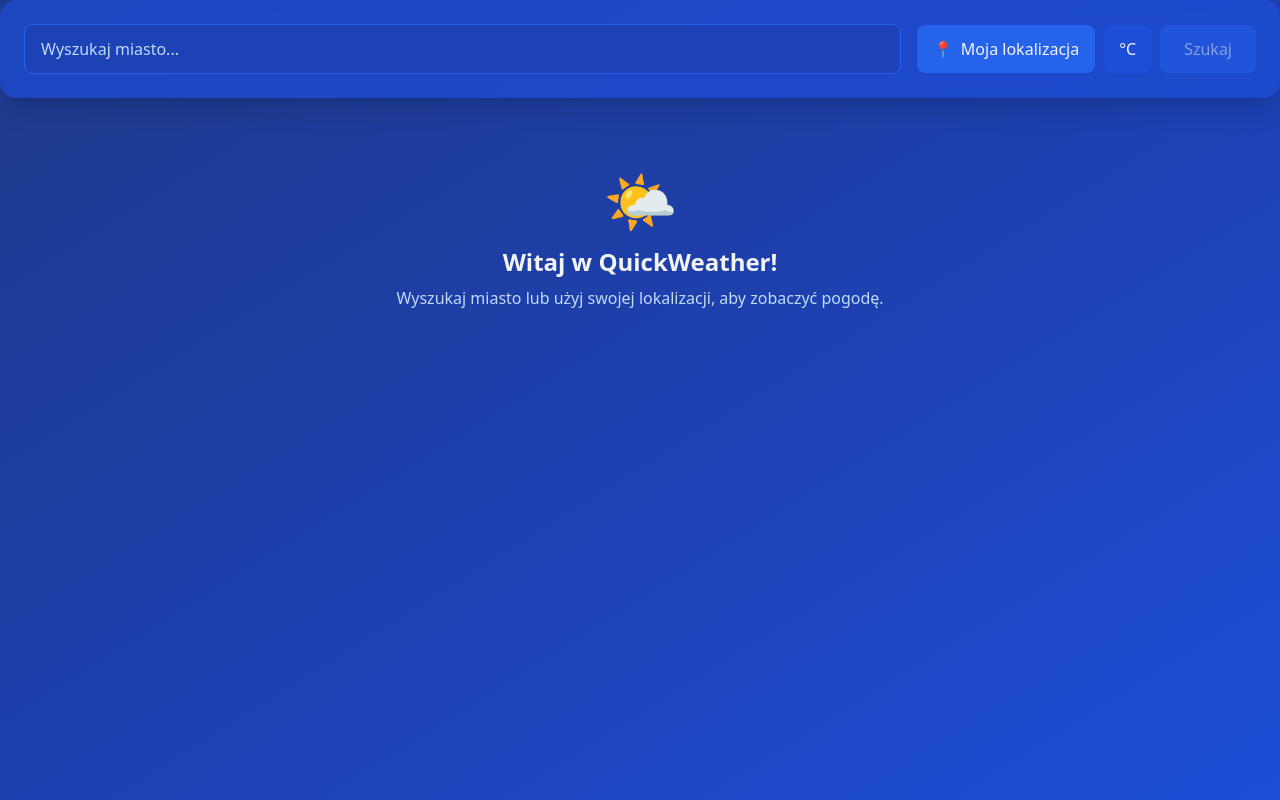
Home Integration Tests › searches for city weather
Type "Kraków" into the field with placeholder "Wyszukaj miasto..." at [462, 49], box [24, 24, 901, 74]
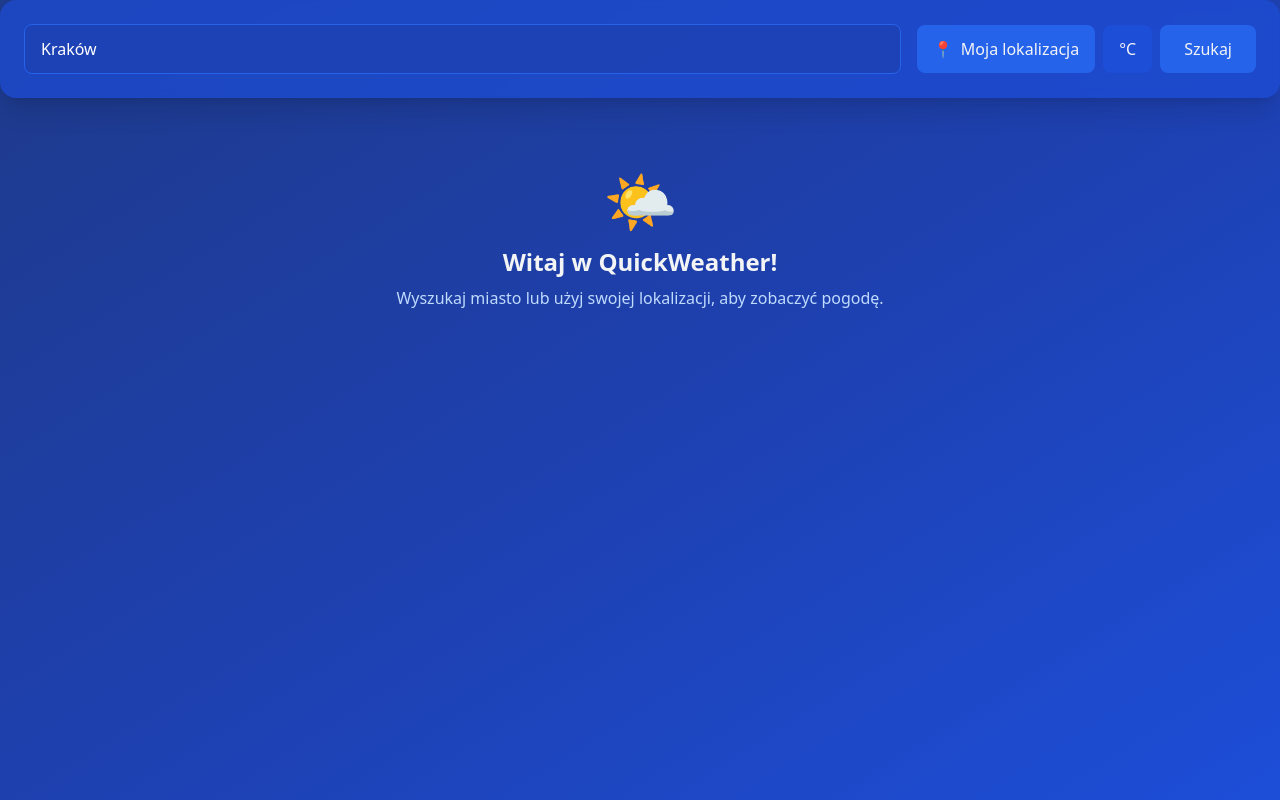
Now the button "Szukaj" is enabled
Click the button "Szukaj" at [1208, 49], box [1160, 25, 1256, 73]
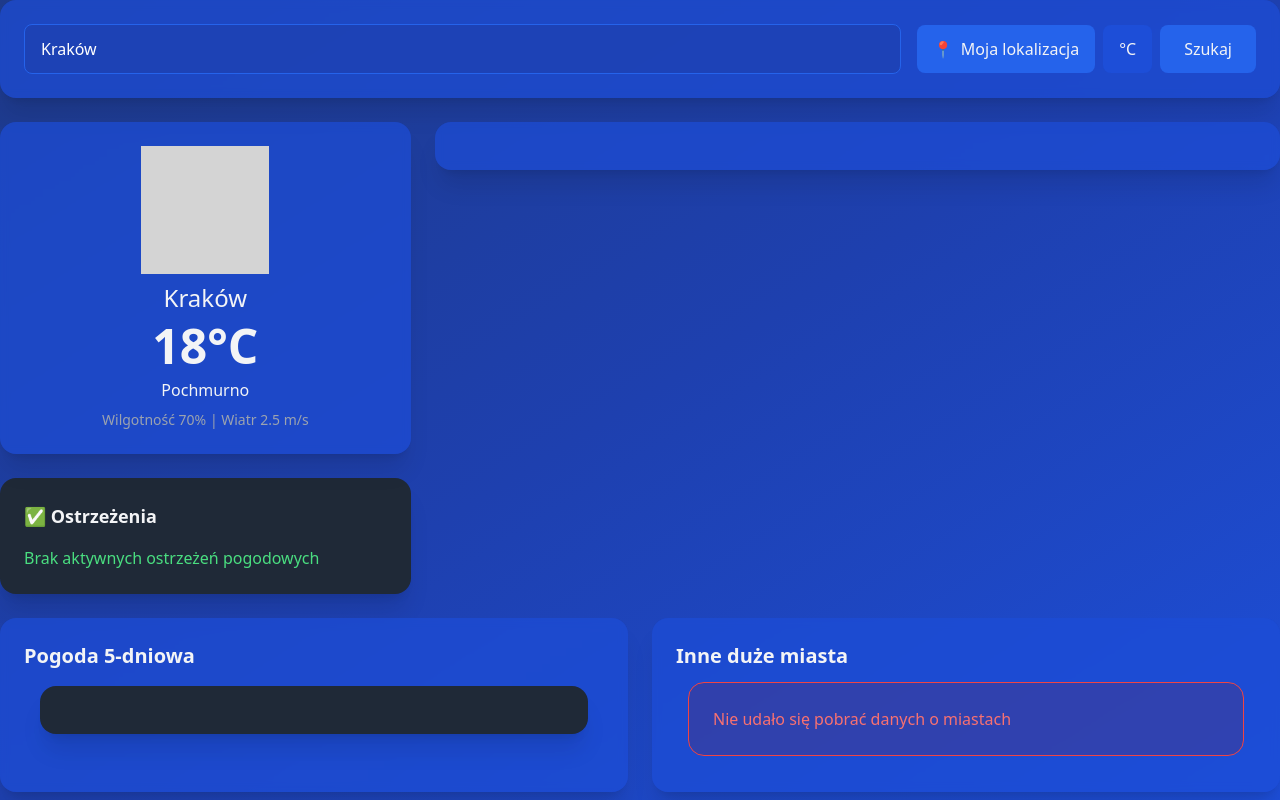
Now the heading "Kraków" is shown, box [164, 282, 247, 314]
